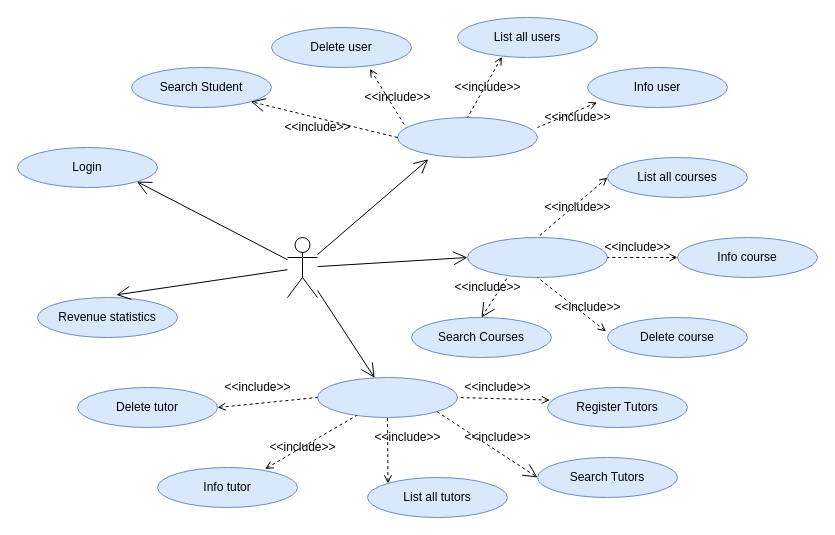
This 835x535 diagram has some shape labels left out. Each missing label, with the box of its shape:
Admin: (286, 236, 318, 298)
Manager Courses: (466, 236, 608, 278)
Manager Students: (396, 116, 538, 158)
Manager Tutors: (316, 376, 458, 418)
